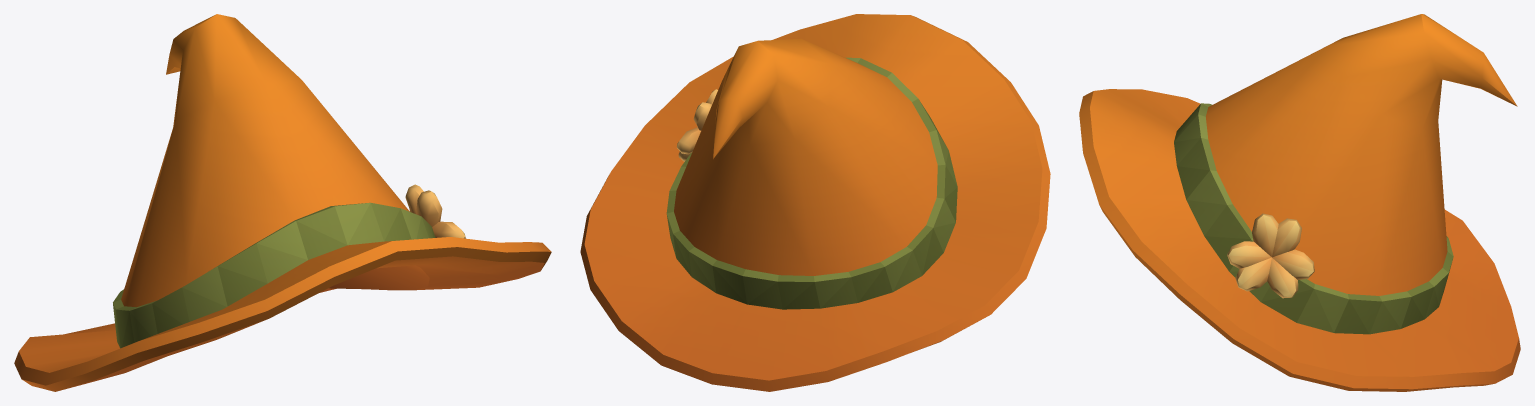
Rendered from witch_hat.glb.
3 renders of one model, left to right at view 1: azimuth 30°, elevation 25°; view 2: azimuth 150°, elevation 25°; view 3: azimuth 270°, elevation 25°, orthographic. The views are drawn at different scales.
Visible parts, largest first — view 1: Witch_Hat; view 2: Witch_Hat; view 3: Witch_Hat.
Boxes of the visible parts, x1,y1,x2,y2 form: Witch_Hat: (14,14,551,391); Witch_Hat: (580,14,1050,391); Witch_Hat: (1079,14,1520,391).
Size of the model in its own units: 1.89 by 1.35 by 1.6.
1 material, 1 textured.
